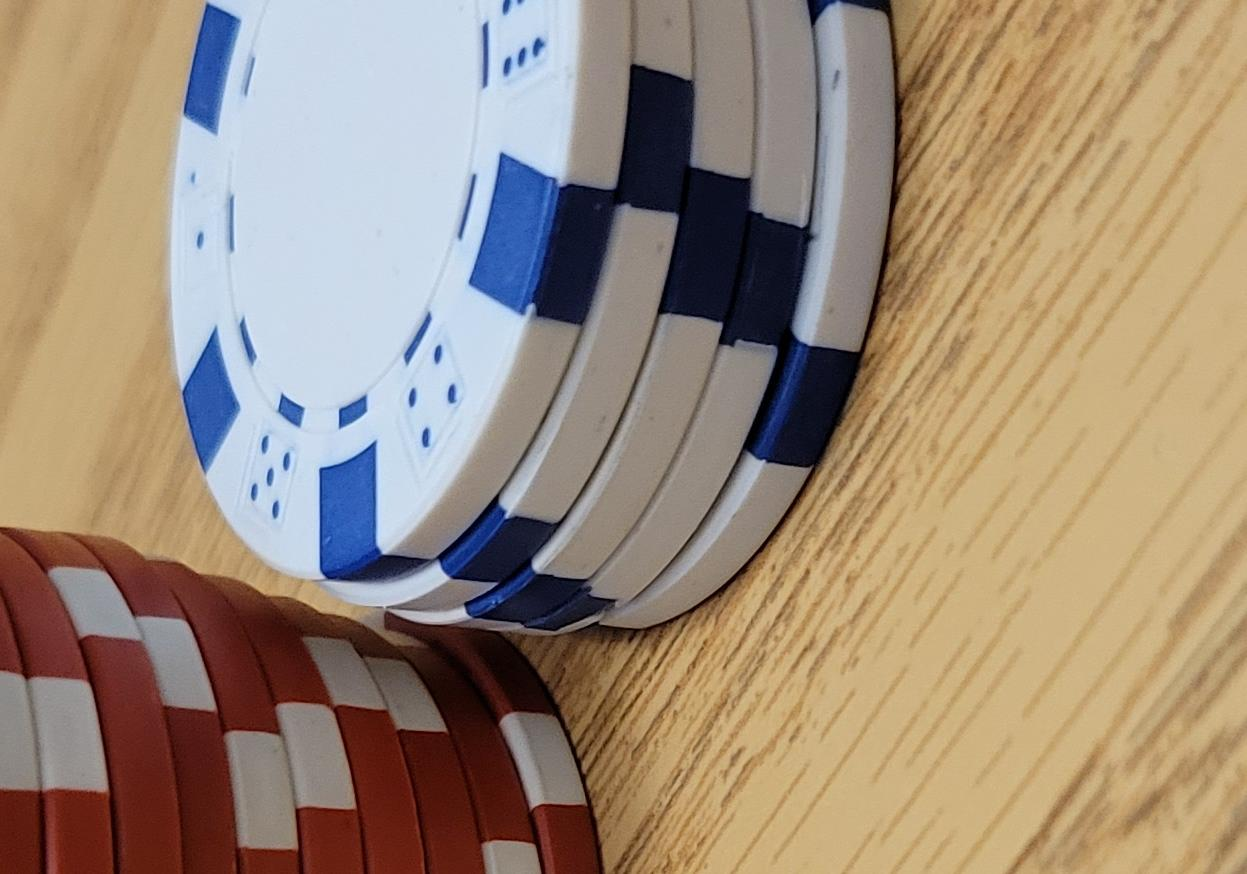Chip: (1, 212, 610, 874)
